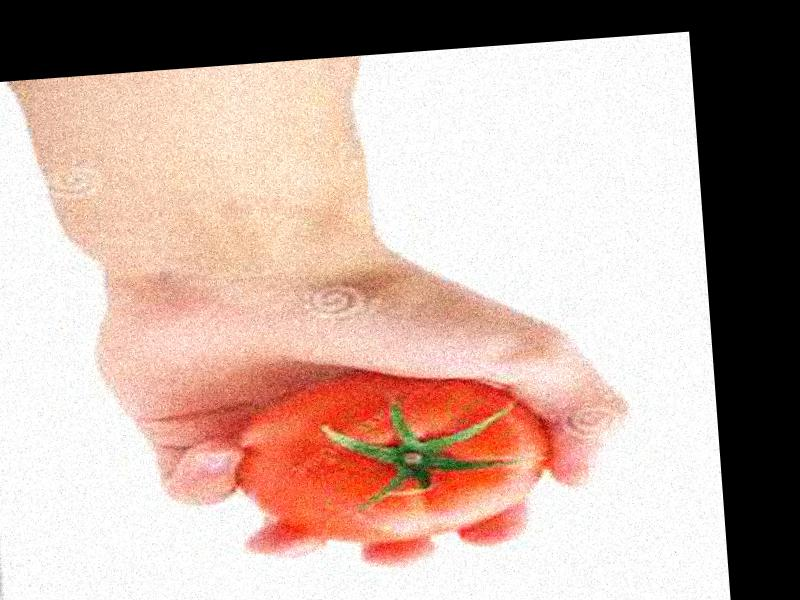Tomato: (228, 364, 550, 552)
